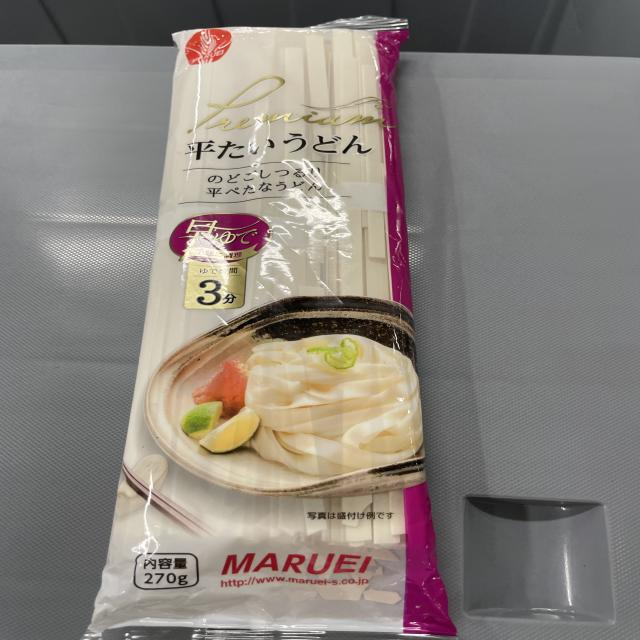object_name: (155, 29, 410, 640)
